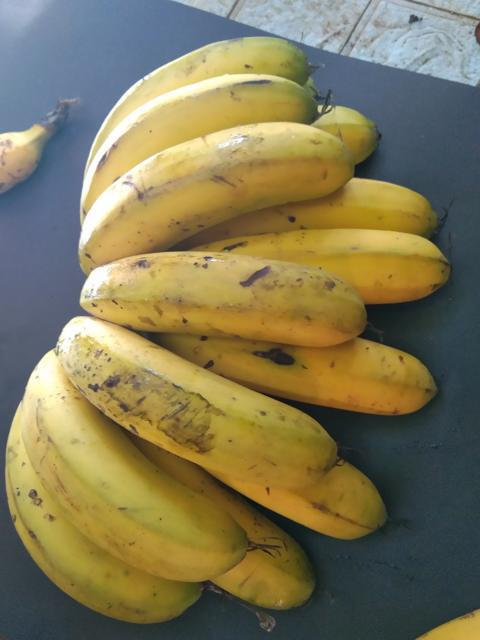ripe: (29, 289, 332, 480), (12, 333, 237, 545), (77, 60, 303, 215), (62, 123, 335, 232), (70, 249, 368, 345), (19, 454, 178, 619), (242, 215, 453, 294)
